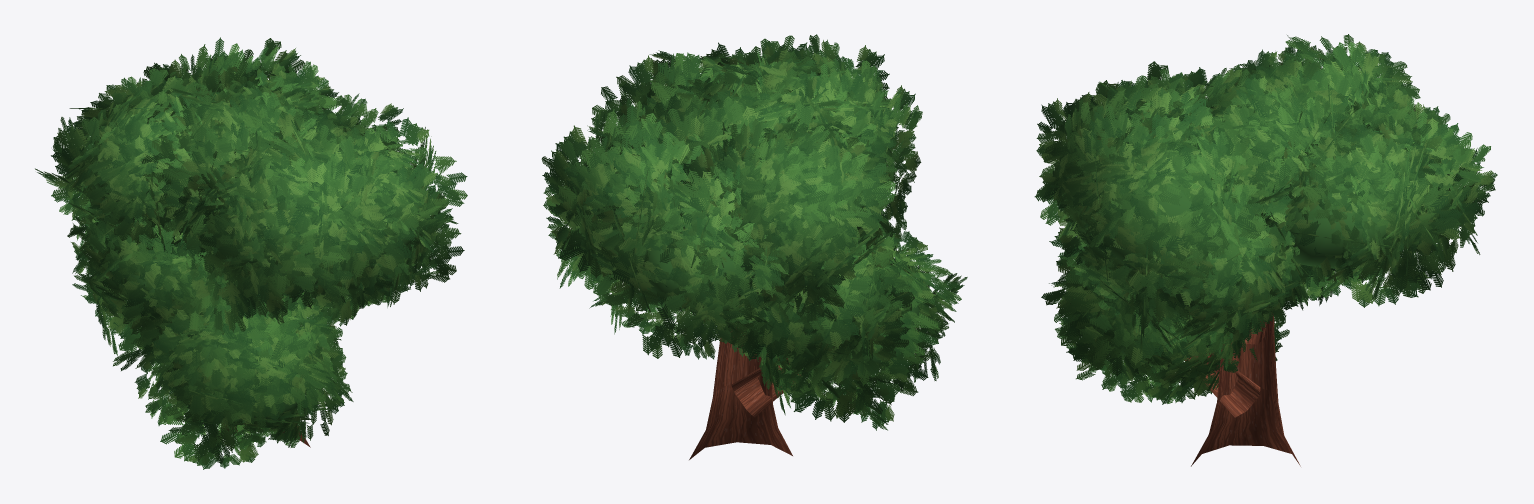
Rendered from tree_yew.glb.
The picture shows the model from 3 angles, left to right: view 1: azimuth 30°, elevation 25°; view 2: azimuth 150°, elevation 25°; view 3: azimuth 270°, elevation 25°; orthographic projection. The views are drawn at different scales.
Parts seen in each view (by area): view 1: tree_yew; view 2: tree_yew, tree_yew_bark_Yew; view 3: tree_yew, tree_yew_bark_Yew.
Boxes of the visible parts, x1,y1,x2,y2 form: tree_yew: (35, 37, 467, 469); tree_yew: (541, 34, 967, 430); tree_yew_bark_Yew: (689, 327, 800, 459); tree_yew: (1034, 34, 1497, 404); tree_yew_bark_Yew: (1184, 313, 1300, 466).
Bounding box in the file's own units: 6.94 × 7.24 × 7.97.
Materials: 3 (2 with a texture image).
